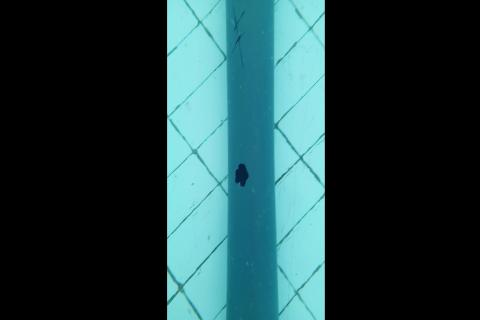kebocoran: (234, 163, 250, 187)
keretakan: (230, 6, 246, 68)
